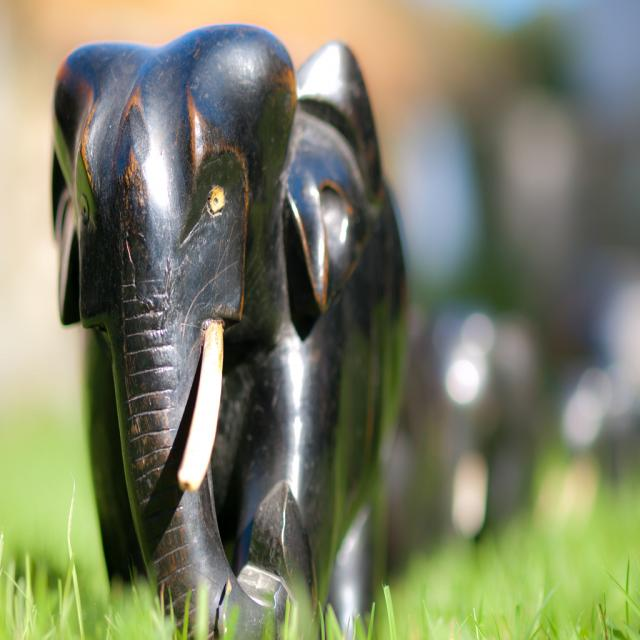elephant: (50, 27, 403, 639)
